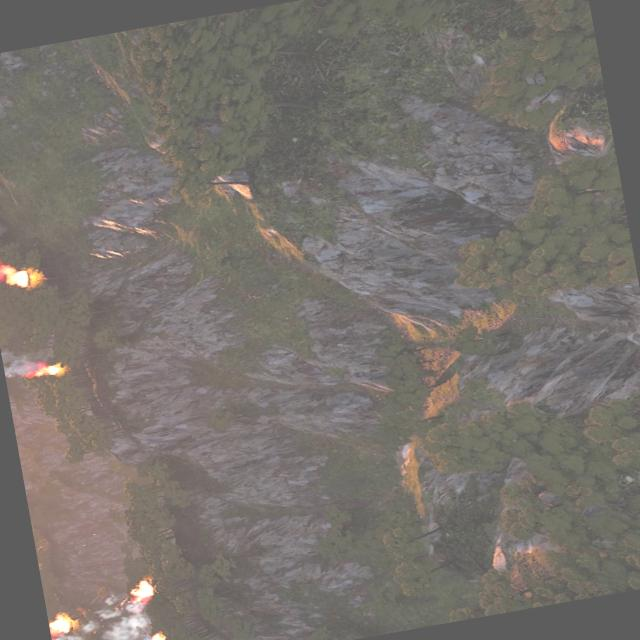fire: (0, 258, 36, 290), (25, 358, 65, 378), (127, 578, 154, 602), (47, 610, 73, 634), (149, 630, 167, 640)
smoke: (47, 597, 156, 640), (0, 342, 45, 380), (0, 215, 6, 283)
